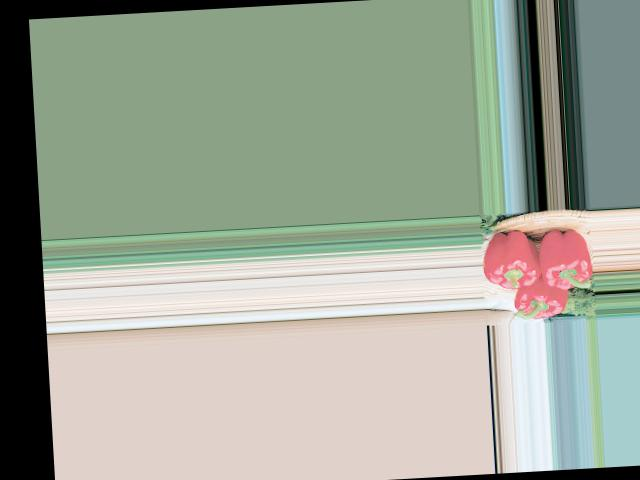bell_pepper: (529, 220, 592, 292)
